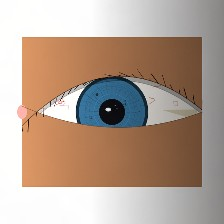pterygium_lesion: (157, 94, 201, 130)
